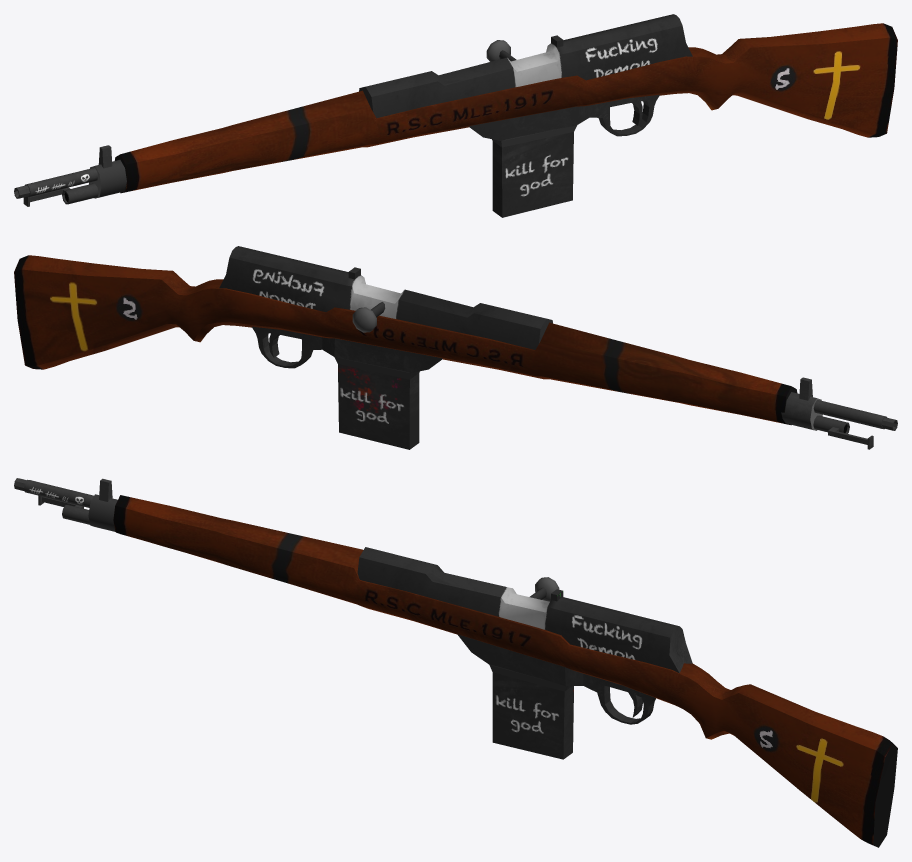
The model's file is 有貼圖的獵槍.fbx.
3 renders of one model, top to bottom at view 1: azimuth 30°, elevation 25°; view 2: azimuth 150°, elevation 25°; view 3: azimuth 330°, elevation 25°, orthographic.
Parts seen in each view (by area): view 1: Box001, Box003, Box002, Cylinder001, Cylinder004; view 2: Box001, Box003, Box002, Cylinder001, Cylinder004; view 3: Box001, Box003, Box002, Cylinder001.
Part boxes in pixels (x1=…): Box001: x1=114, y1=23, x2=897, y2=193; Box003: x1=359, y1=14, x2=692, y2=117; Box002: x1=469, y1=94, x2=659, y2=217; Cylinder001: x1=14, y1=145, x2=126, y2=206; Cylinder004: x1=486, y1=40, x2=516, y2=61; Box001: x1=14, y1=255, x2=797, y2=425; Box003: x1=219, y1=246, x2=552, y2=349; Box002: x1=252, y1=326, x2=442, y2=449; Cylinder001: x1=781, y1=377, x2=897, y2=449; Cylinder004: x1=352, y1=302, x2=385, y2=332; Box001: x1=113, y1=495, x2=897, y2=847; Box003: x1=357, y1=547, x2=692, y2=673; Box002: x1=457, y1=634, x2=655, y2=759; Cylinder001: x1=14, y1=478, x2=117, y2=531.
Bounding box in the file's own units: 140 × 27.23 × 11.26.
Materials: 5 (5 with a texture image).
